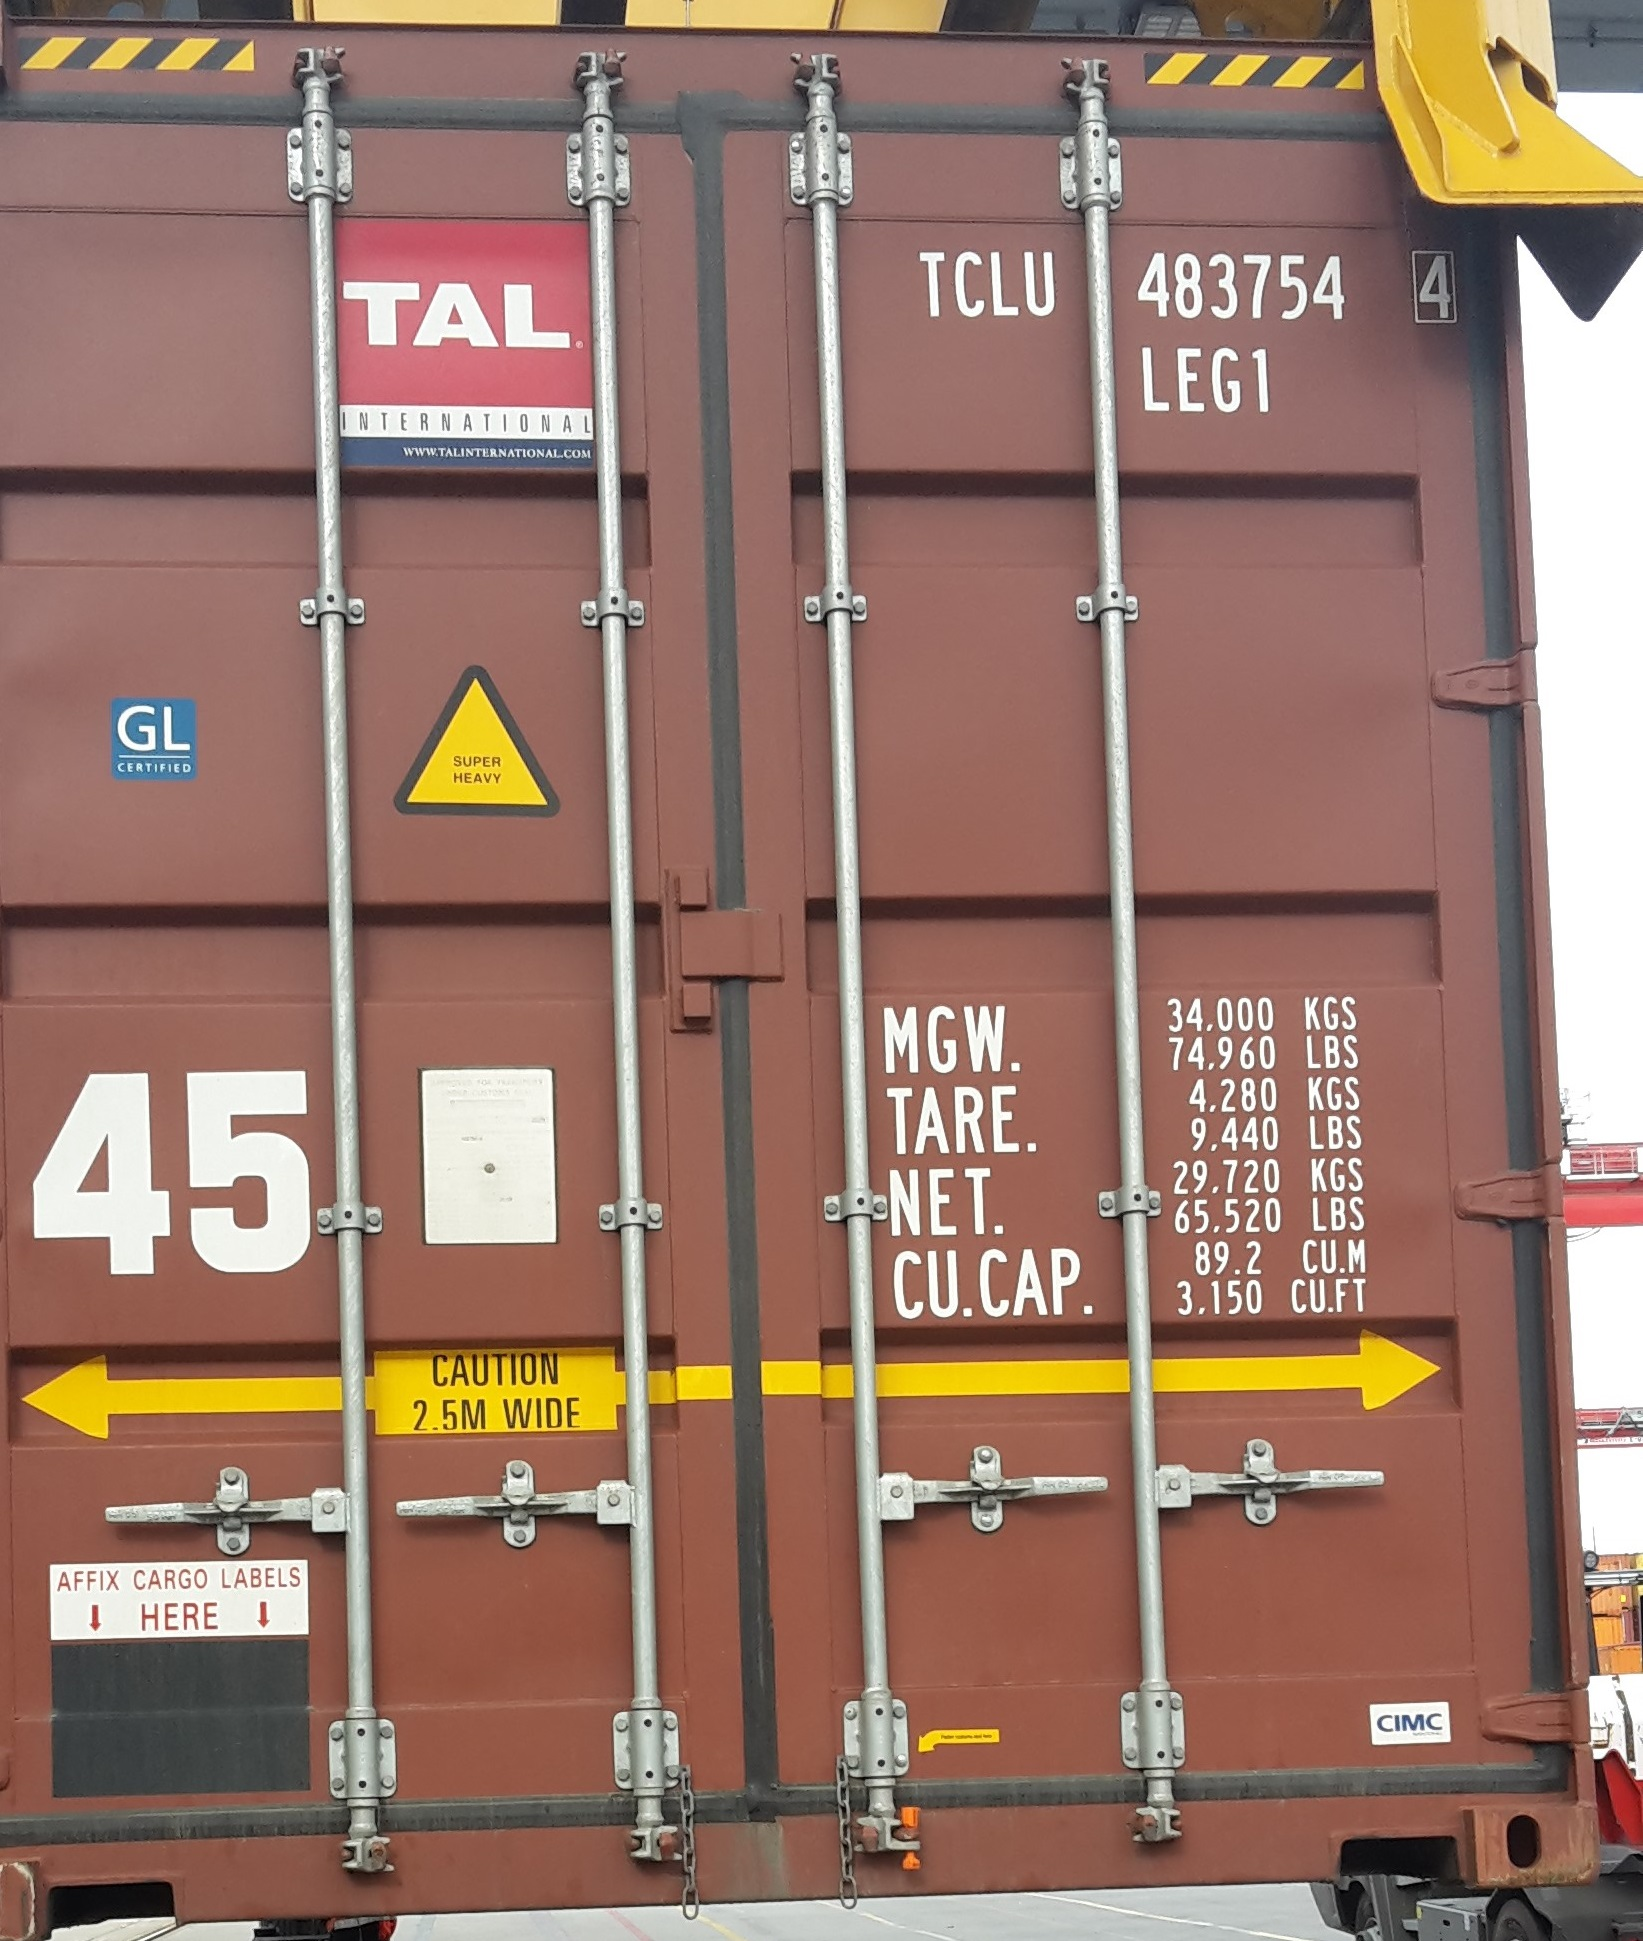container_door: (24, 37, 1539, 1905)
